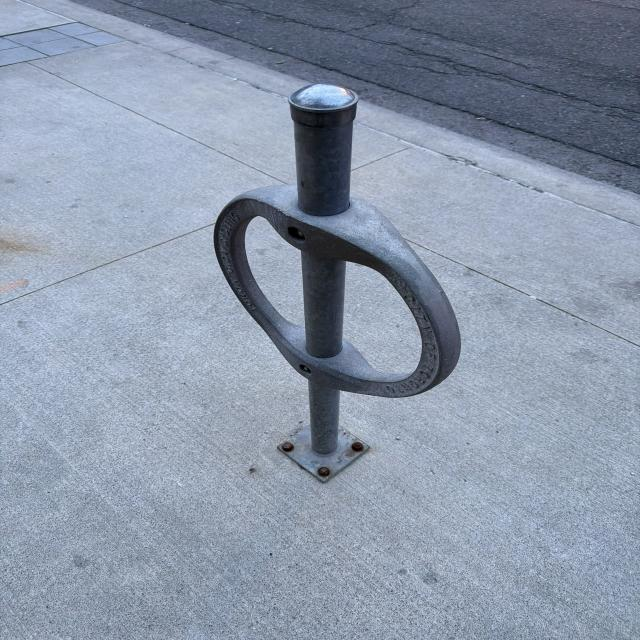Bicycle Rack: (213, 82, 464, 481)
